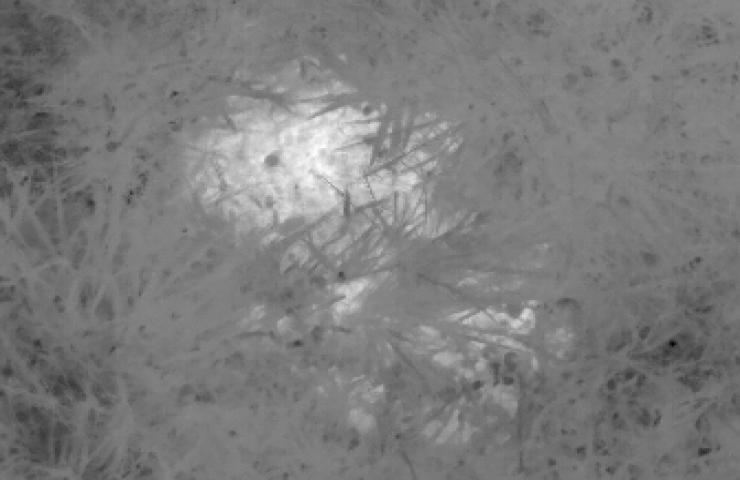landmines: (183, 61, 463, 245)
